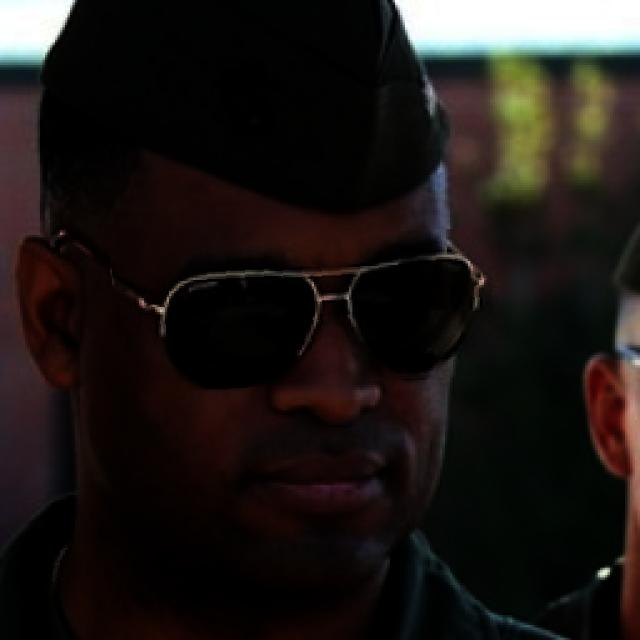glasses: (112, 232, 495, 390)
